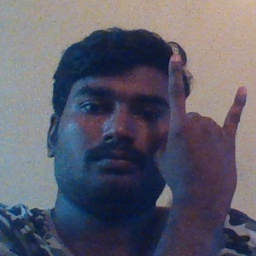V: (152, 52, 249, 202)
